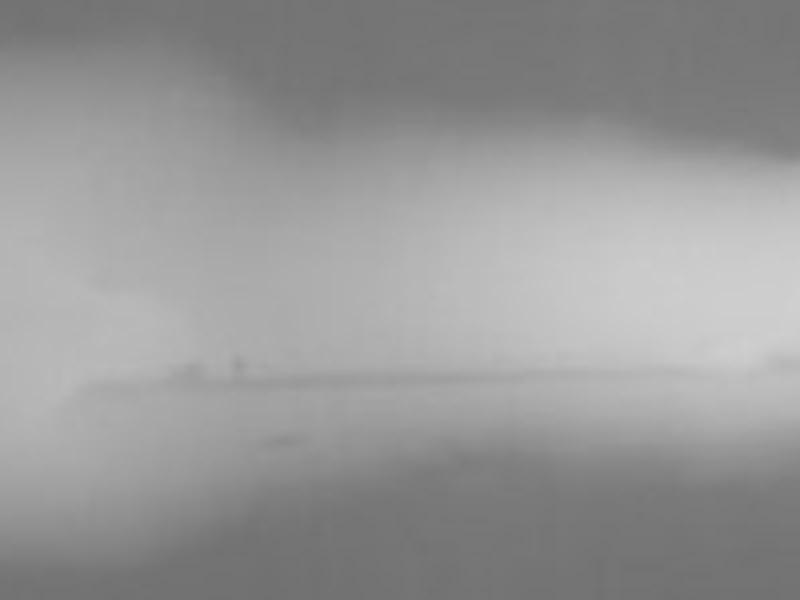defect: (171, 363, 205, 386), (264, 431, 298, 448), (228, 352, 250, 373)
